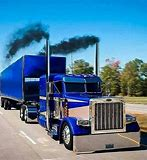smoke: (2, 21, 49, 56), (49, 35, 100, 55)
